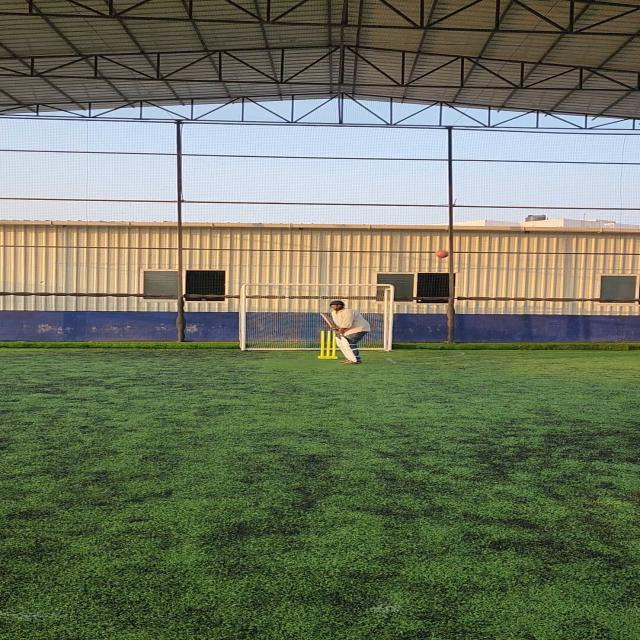ball: (433, 249, 450, 259)
stump: (316, 330, 339, 359)
